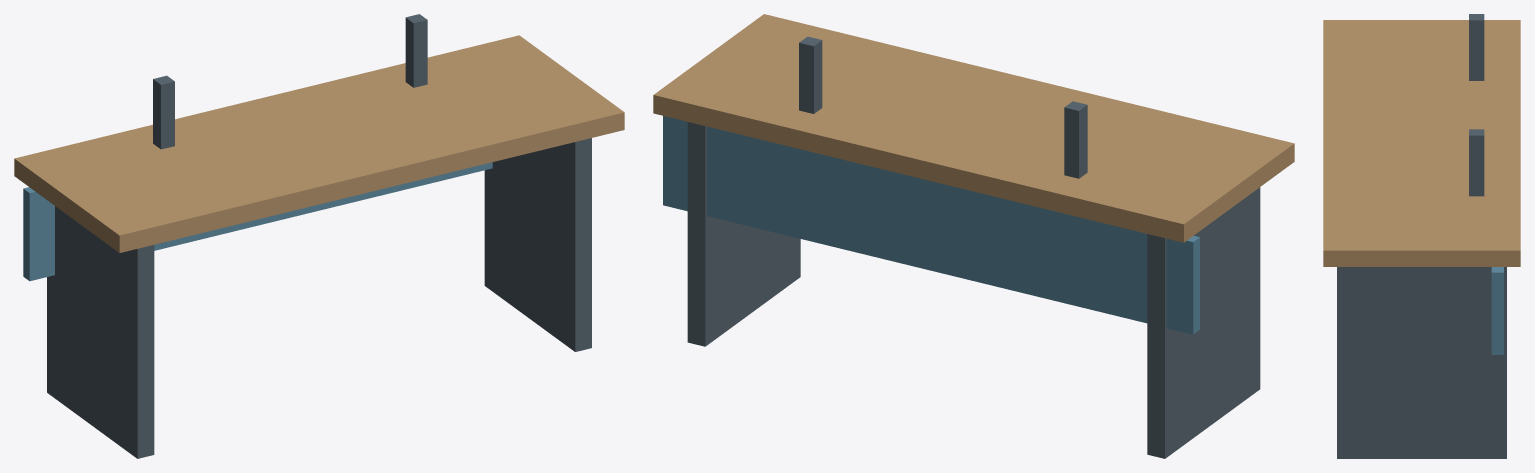
Rendered from press-desk-54242480.glb.
3 views of the same model, side by side, from view 1: azimuth 30°, elevation 25°; view 2: azimuth 150°, elevation 25°; view 3: azimuth 270°, elevation 25° (orthographic). The views are drawn at different scales.
Parts seen in each view (by area): view 1: press-desk; view 2: press-desk; view 3: press-desk.
Part boxes in pixels (left/top/right/bottom): press-desk: left=14, top=14, right=624, bottom=458; press-desk: left=653, top=14, right=1294, bottom=458; press-desk: left=1323, top=14, right=1520, bottom=458.
Size of the model in its own units: 1.8 by 1.02 by 0.65.
